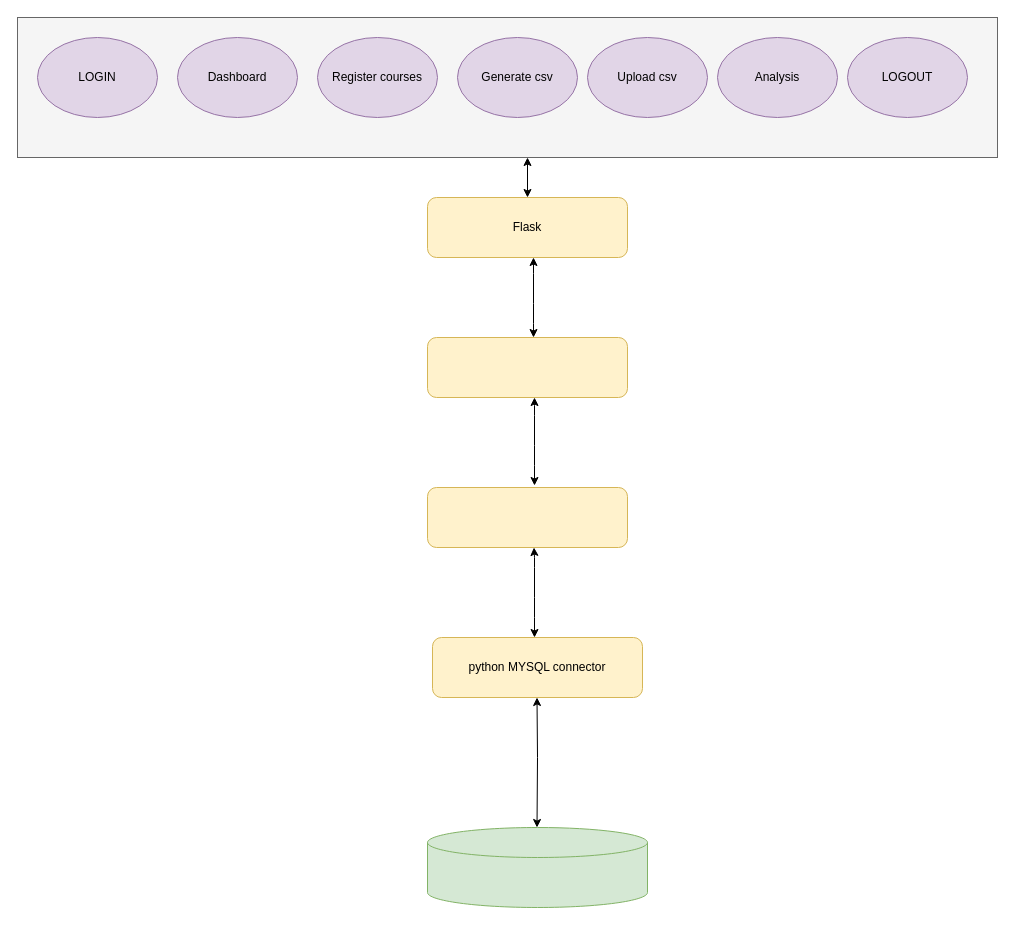
The diagram is 1015 pixels wide and 925 high, and some of its shapes have lost their labels. Each missing label, with the box of its shape:
HTML,css,js: (426, 336, 628, 398)
MYSQL Database: (426, 826, 648, 908)
numpy,pandas: (426, 486, 628, 548)
